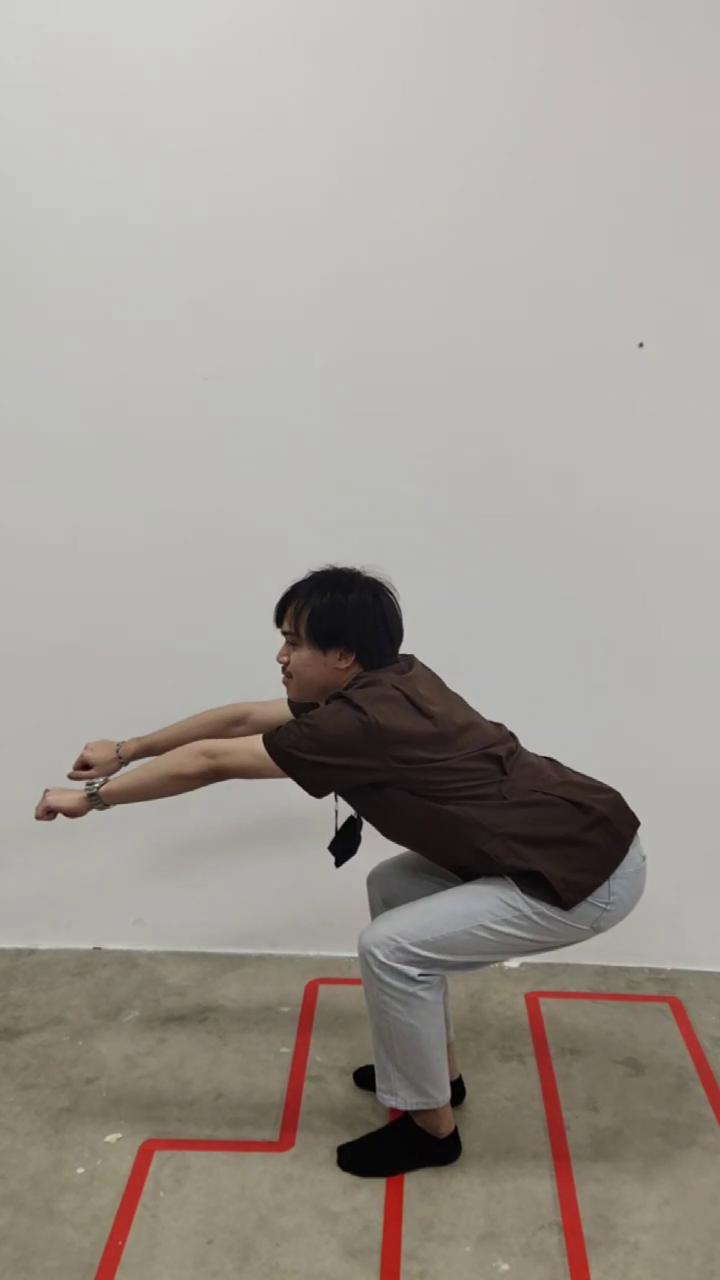squat down: (35, 568, 645, 1178)
